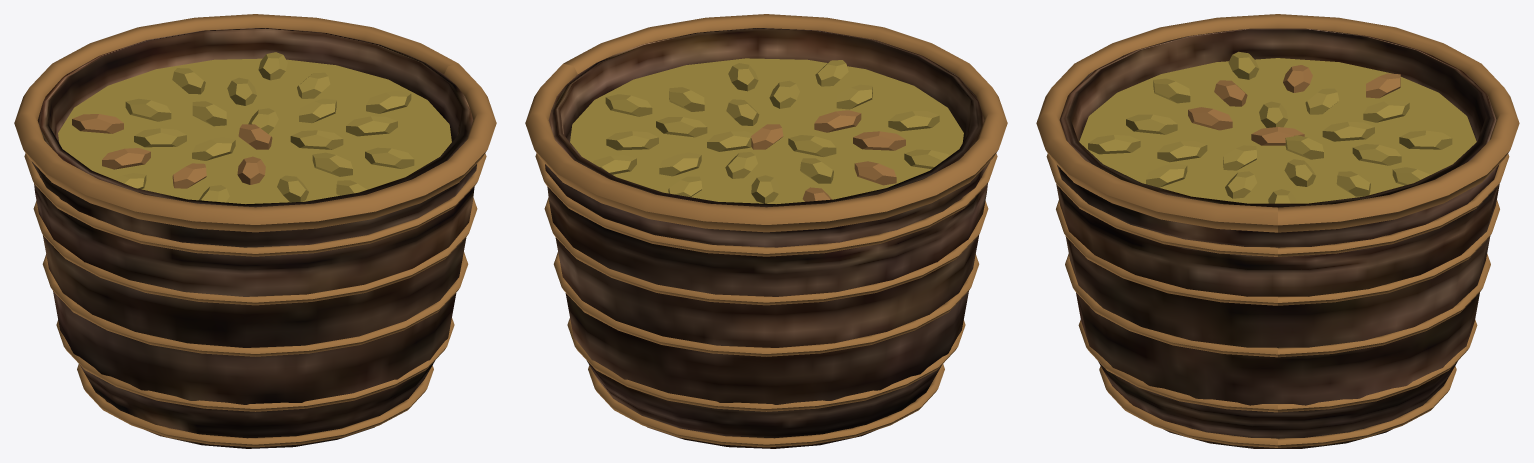
The model's file is grain.glb.
3 views of the same model, side by side, from view 1: azimuth 30°, elevation 25°; view 2: azimuth 150°, elevation 25°; view 3: azimuth 270°, elevation 25° (orthographic).
Parts seen in each view (by area): view 1: part_0, part_1, part_2; view 2: part_0, part_1, part_2; view 3: part_0, part_1, part_2.
Boxes of the visible parts, left/top/right/bottom form: part_0: left=31, top=28, right=476, bottom=448; part_1: left=14, top=14, right=496, bottom=447; part_2: left=58, top=52, right=451, bottom=204; part_0: left=545, top=28, right=990, bottom=448; part_1: left=525, top=14, right=1007, bottom=447; part_2: left=570, top=58, right=963, bottom=204; part_0: left=1056, top=28, right=1499, bottom=448; part_1: left=1036, top=14, right=1519, bottom=447; part_2: left=1079, top=51, right=1476, bottom=203.
Bounding box in the file's own units: 0.4587 × 0.2824 × 0.4587.
3 materials, 1 textured.
